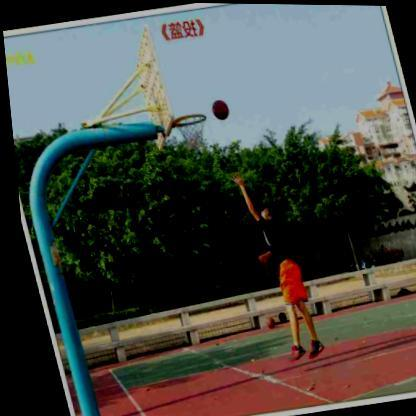basketball: (208, 97, 228, 120)
rim: (168, 111, 212, 154)
